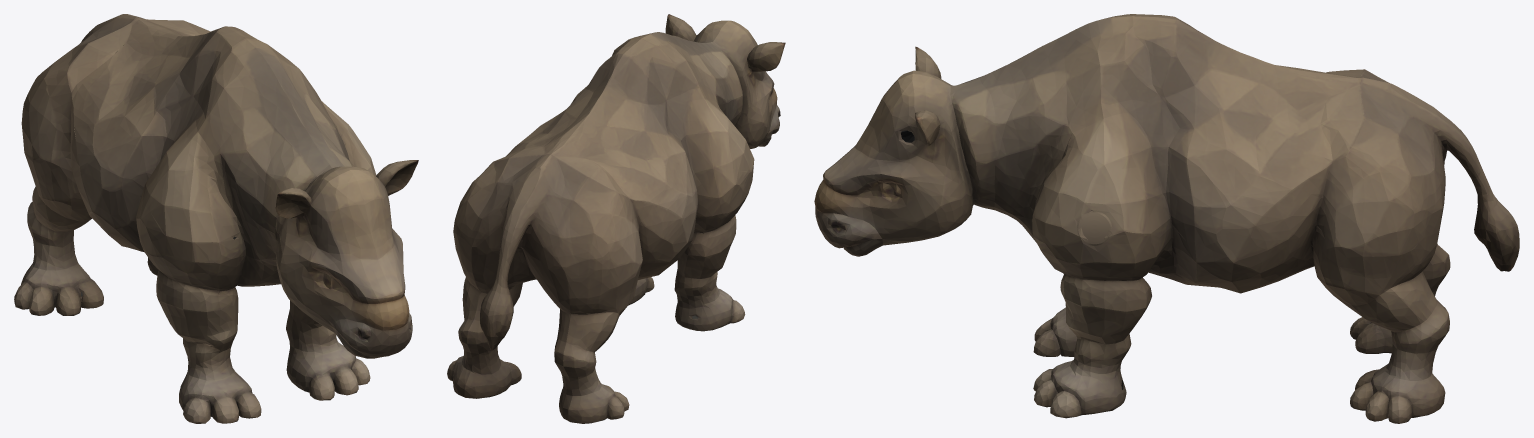
3 views of the same model, side by side, from view 1: azimuth 30°, elevation 25°; view 2: azimuth 150°, elevation 25°; view 3: azimuth 270°, elevation 25° (orthographic). The views are drawn at different scales.
Visible parts, largest first — view 1: geometry_0; view 2: geometry_0; view 3: geometry_0, ELAS_SHOULDER_LOCAL_SKIN.
Part boxes in pixels (x1,y1,x2,y2): geometry_0: [14, 14, 418, 423]; geometry_0: [447, 14, 785, 423]; geometry_0: [814, 14, 1519, 423]; ELAS_SHOULDER_LOCAL_SKIN: [1077, 211, 1112, 245].
Size of the model in its own units: 1.7 by 2.52 by 4.5.
Materials: 2 (1 with a texture image).
